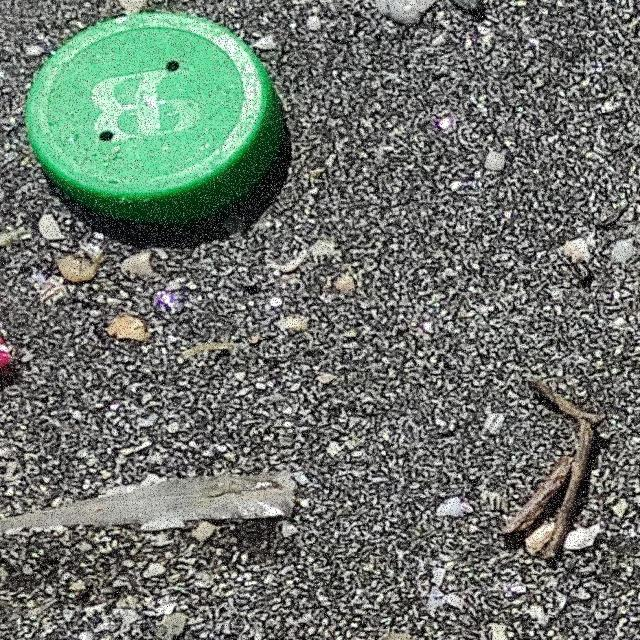plastic_waste: (26, 15, 288, 232)
